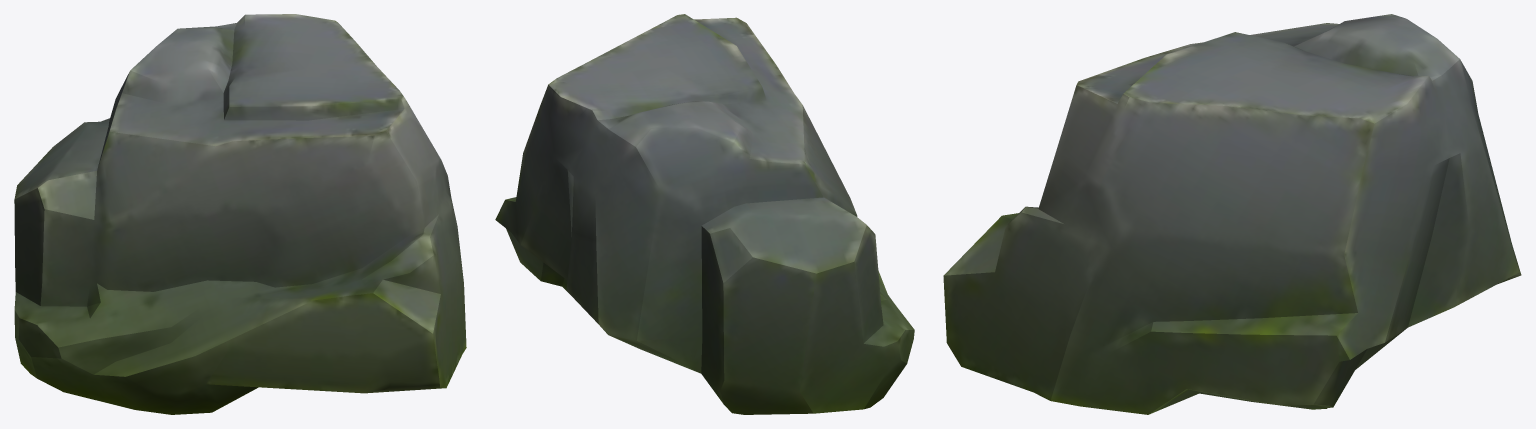
Rendered from rock-medium-jqxf95498b-transformed.glb.
3 views of the same model, side by side, from view 1: azimuth 30°, elevation 25°; view 2: azimuth 150°, elevation 25°; view 3: azimuth 270°, elevation 25° (orthographic). The views are drawn at different scales.
Parts seen in each view (by area): view 1: Rock_Medium_3; view 2: Rock_Medium_3; view 3: Rock_Medium_3.
Part boxes in pixels (x1,y1,x2,y2): Rock_Medium_3: (14,14,466,414); Rock_Medium_3: (495,14,914,414); Rock_Medium_3: (943,14,1521,414).
Size of the model in its own units: 3.42 by 2.32 by 3.48.
Materials: 1 (1 with a texture image).
